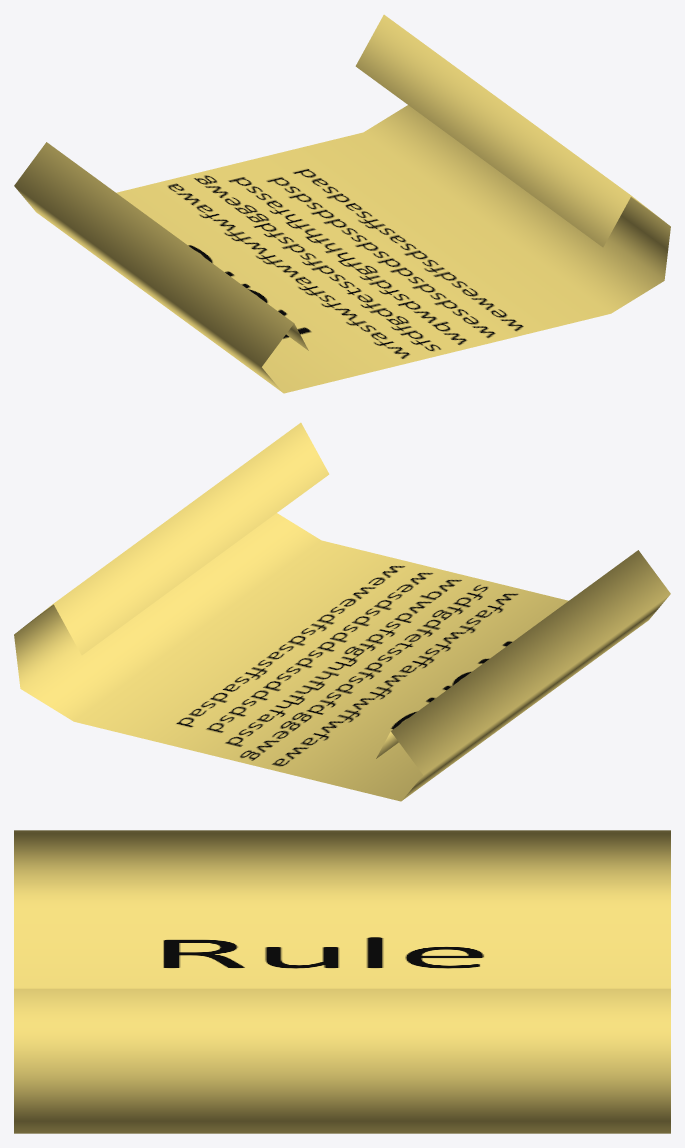
The model's file is Rule Model.fbx.
The picture shows the model from 3 angles, top to bottom: view 1: azimuth 30°, elevation 25°; view 2: azimuth 150°, elevation 25°; view 3: azimuth 270°, elevation 25°; orthographic projection. The views are drawn at different scales.
Parts seen in each view (by area): view 1: Plane; view 2: Plane; view 3: Plane.
Part boxes in pixels (x1,y1,x2,y2): Plane: [14, 14, 670, 393]; Plane: [14, 422, 670, 801]; Plane: [14, 830, 670, 1133].
Bounding box in the file's own units: 133 × 35.02 × 139.
1 material, 1 textured.
